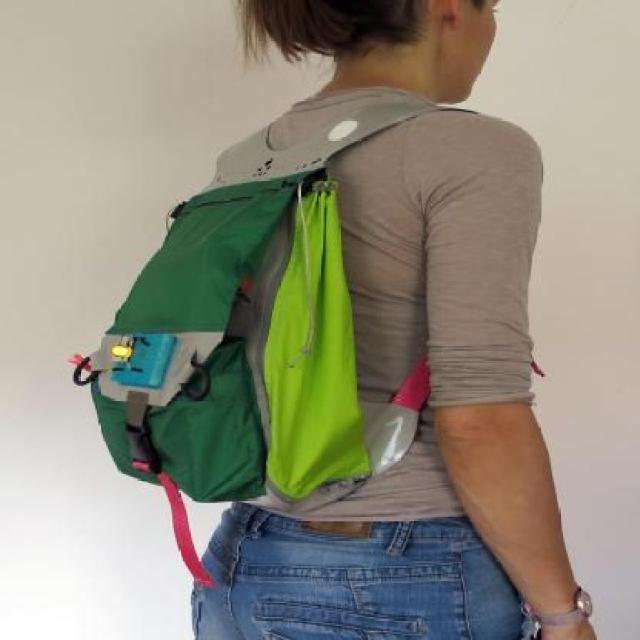backpack: (71, 157, 380, 512)
